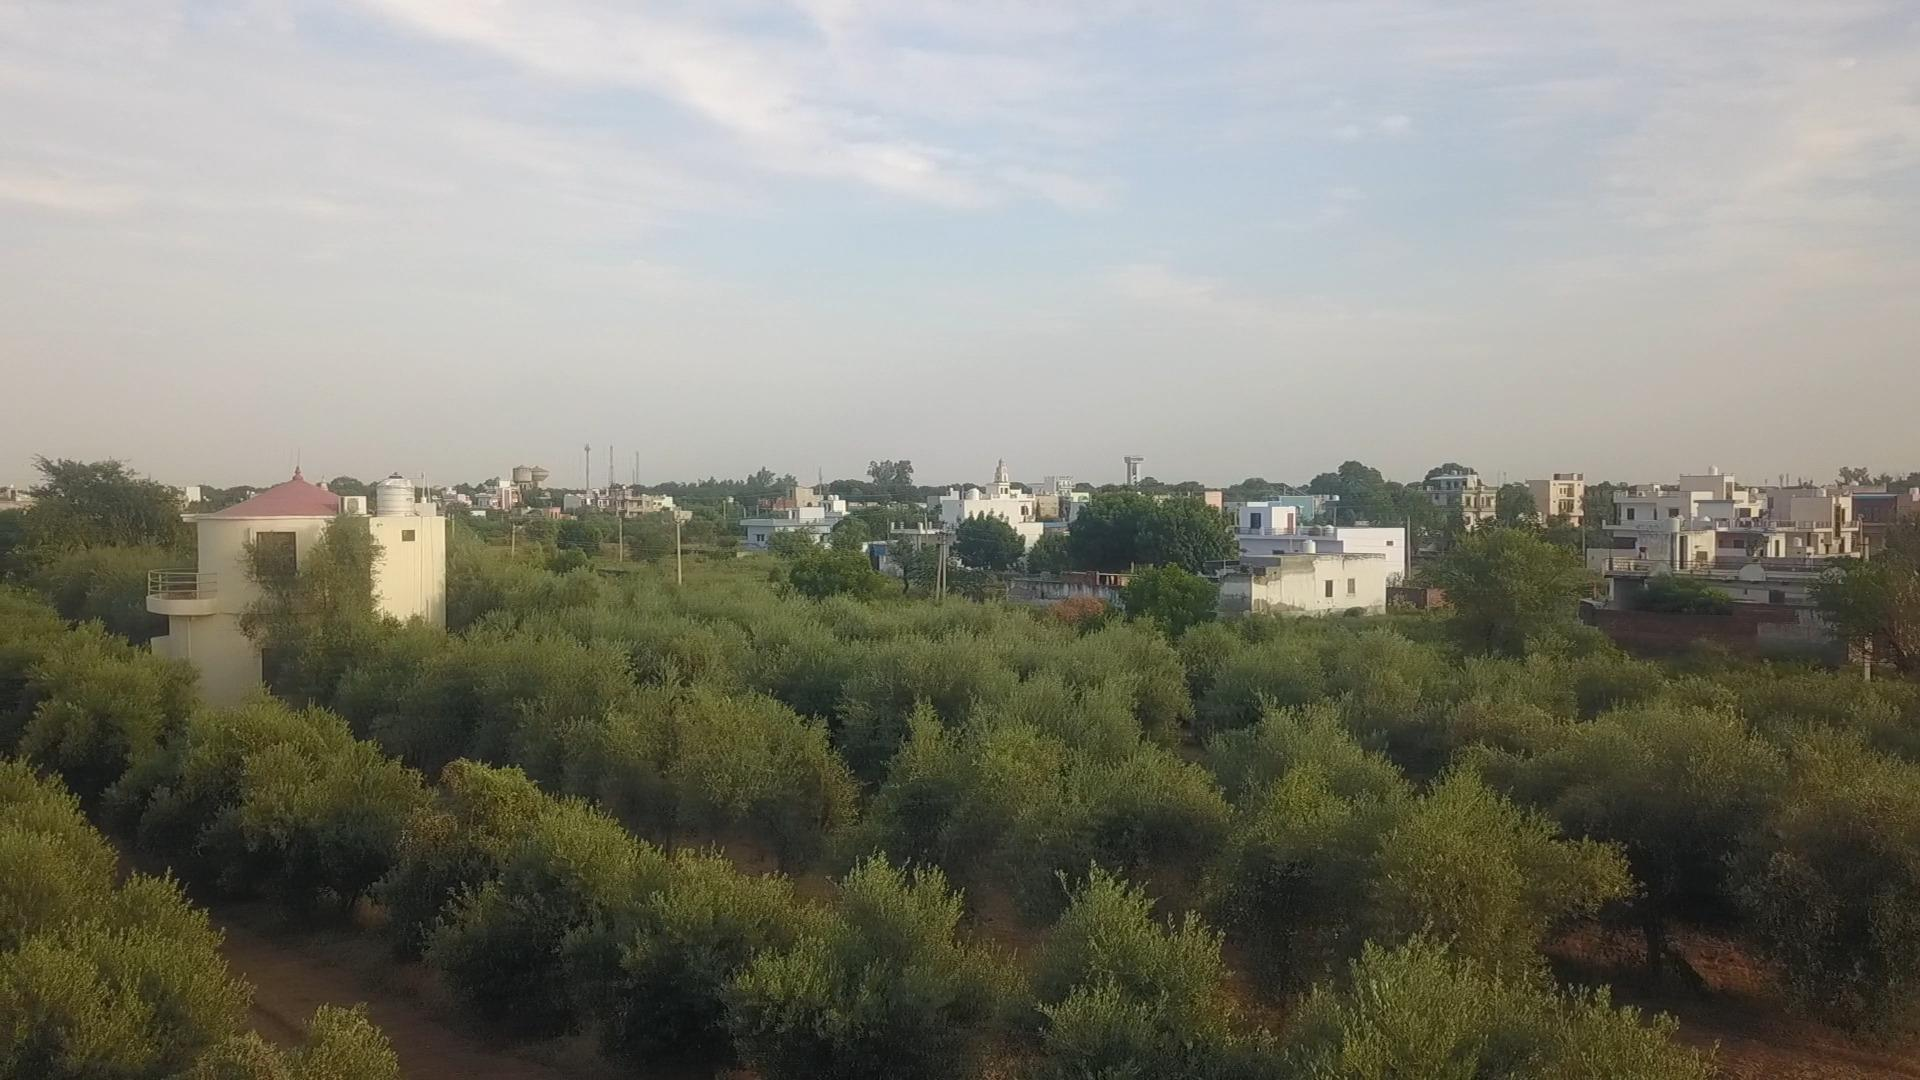canopy: (28, 626, 1712, 1079), (473, 570, 1919, 1018), (244, 537, 1629, 998), (0, 762, 287, 1079)
road: (211, 903, 585, 1079)
